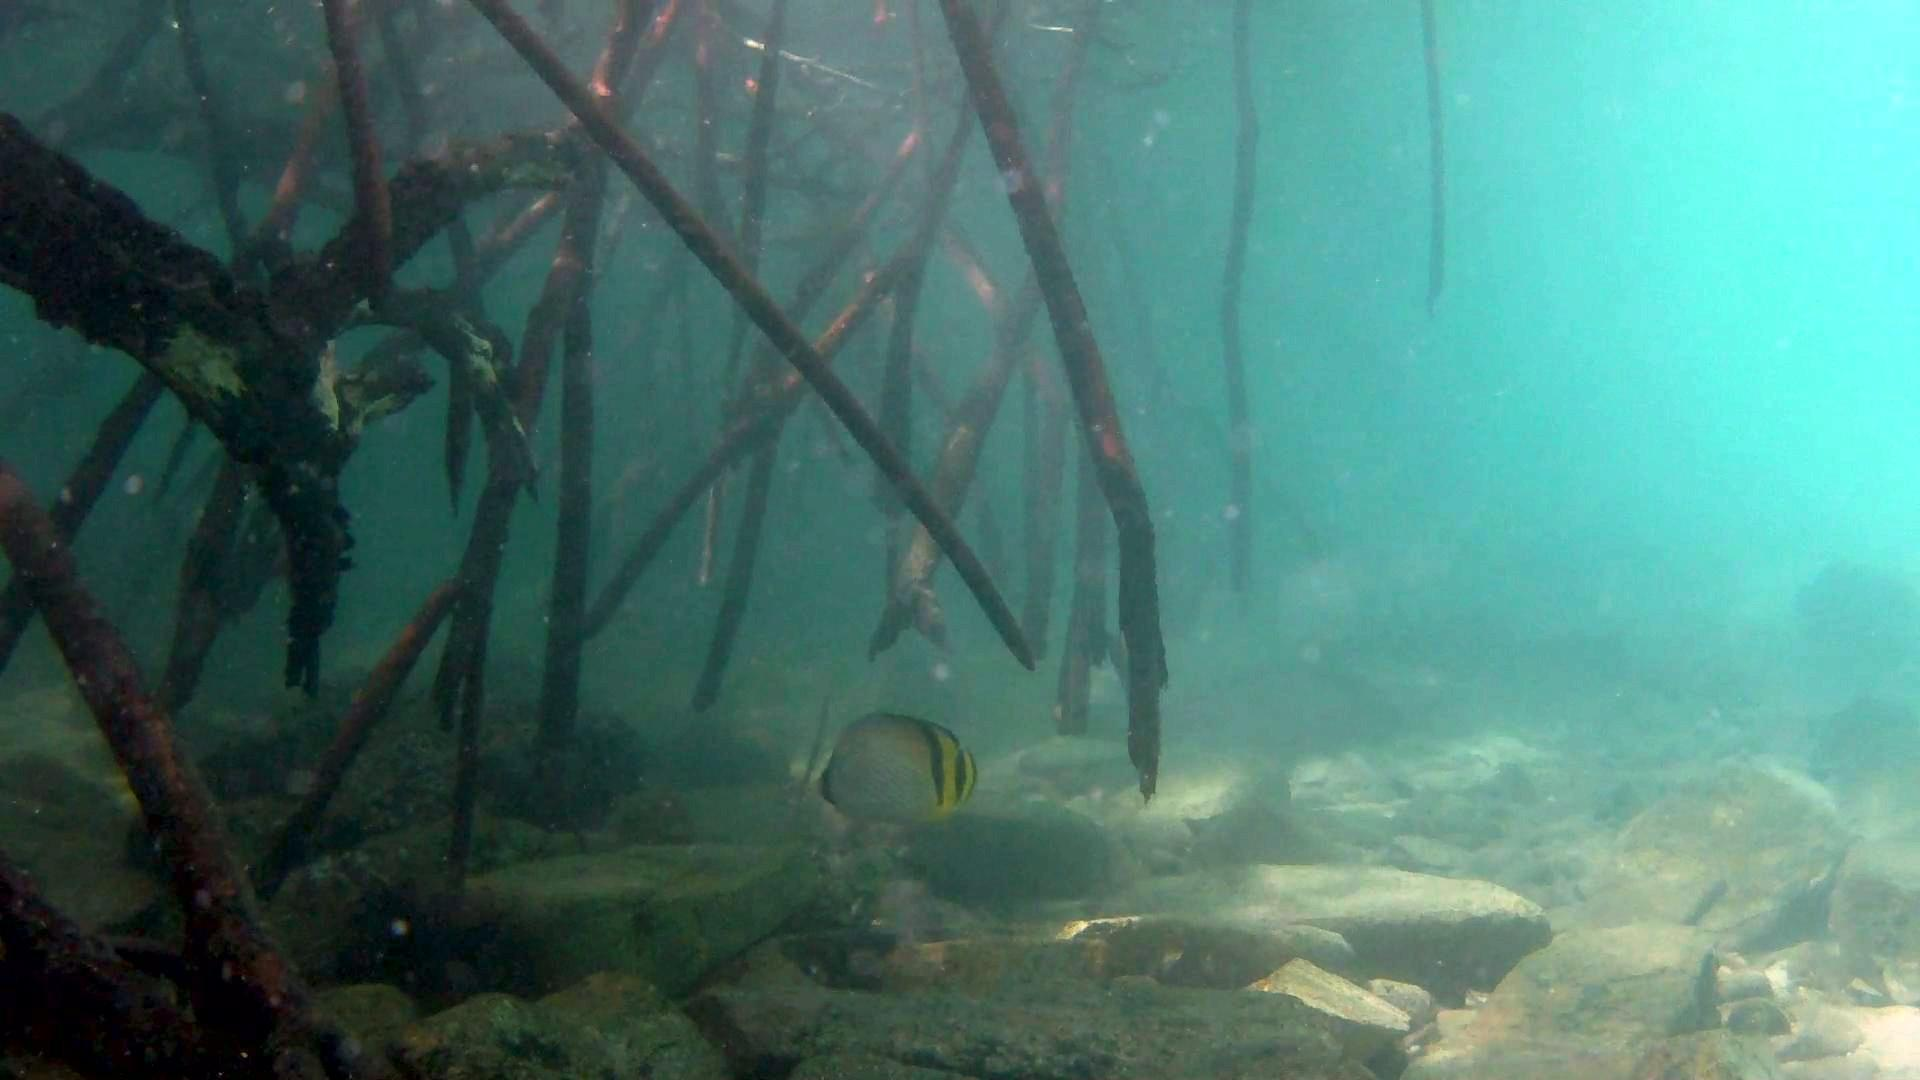chaetodon vagabundus: (802, 708, 980, 825)
